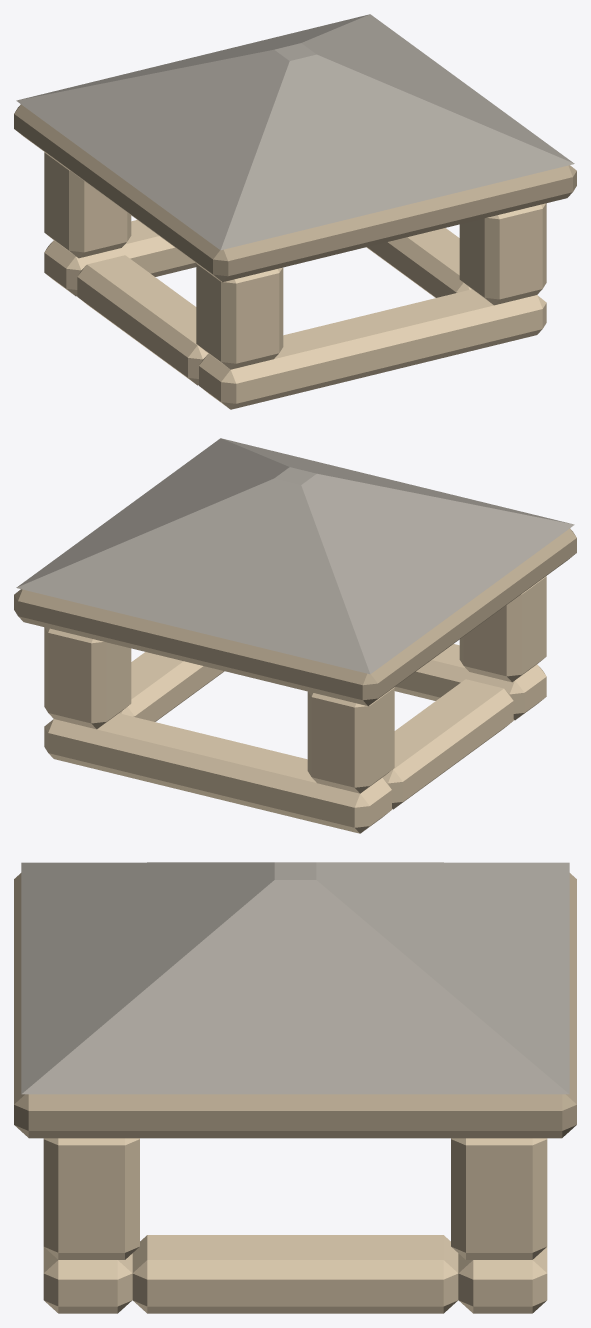
The model's file is chimney_cap.glb.
3 views of the same model, one above another, from view 1: azimuth 30°, elevation 25°; view 2: azimuth 150°, elevation 25°; view 3: azimuth 270°, elevation 25° (orthographic). The views are drawn at different scales.
Parts seen in each view (by area): view 1: chimney_cap; view 2: chimney_cap; view 3: chimney_cap.
Boxes of the visible parts, x1,y1,x2,y2 form: chimney_cap: (14, 14, 576, 409); chimney_cap: (14, 438, 576, 833); chimney_cap: (14, 862, 576, 1313).
Bounding box in the file's own units: 0.76 × 0.51 × 0.76.
